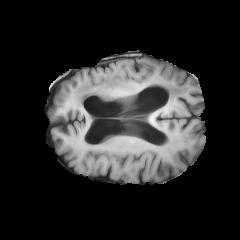glioma: (74, 58, 189, 104)
